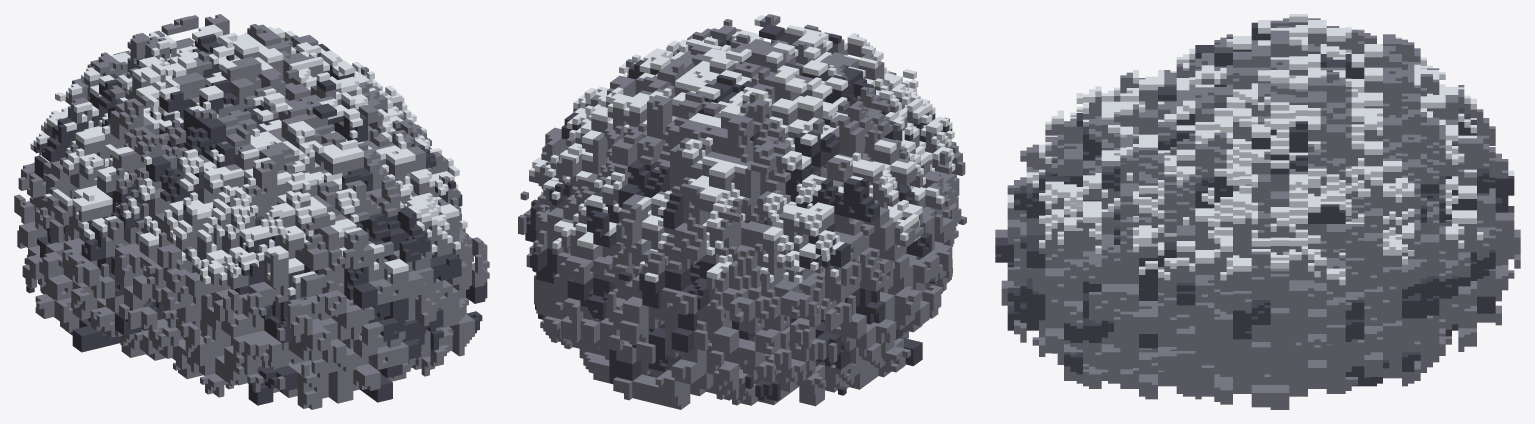
File: rock_alpine_0.obj
3 views of the same model, side by side, from view 1: azimuth 30°, elevation 25°; view 2: azimuth 150°, elevation 25°; view 3: azimuth 270°, elevation 25° (orthographic). The views are drawn at different scales.
Size of the model in its own units: 1.77 by 1.23 by 2.1.
Materials: 1 (1 with a texture image).
